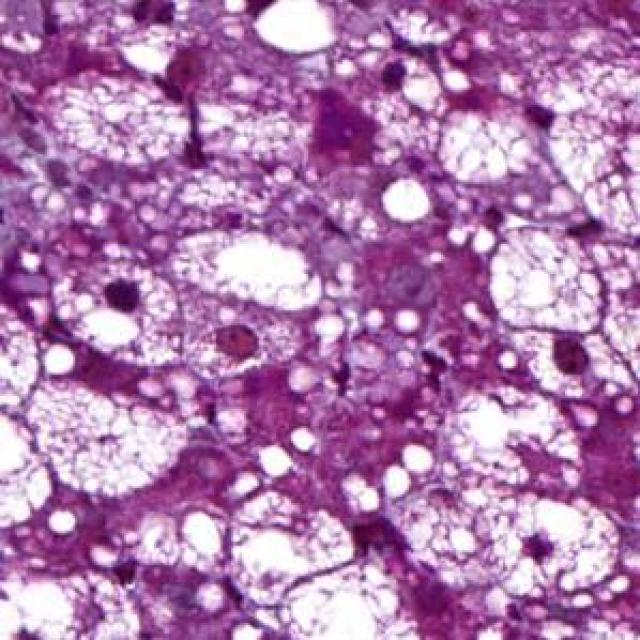ballooning: (218, 486, 362, 610), (479, 492, 625, 606), (51, 259, 182, 372), (488, 227, 608, 338), (434, 94, 544, 191)
